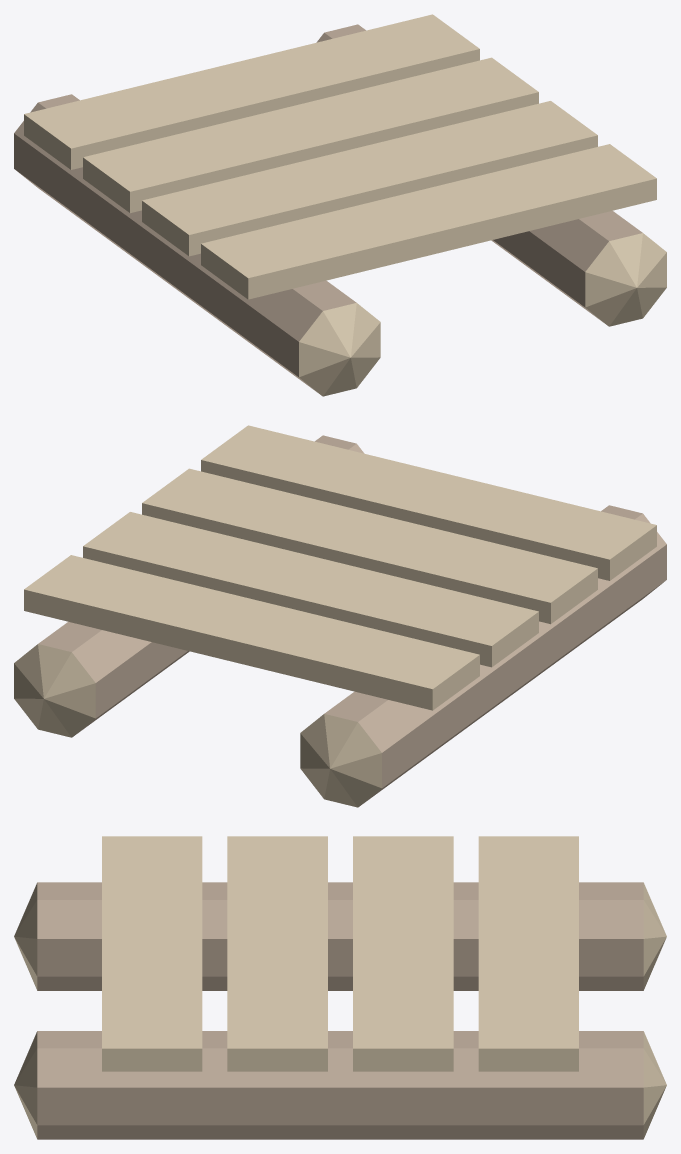
File: Beach_Prop_Docks_Straight.glb
The picture shows the model from 3 angles, top to bottom: view 1: azimuth 30°, elevation 25°; view 2: azimuth 150°, elevation 25°; view 3: azimuth 270°, elevation 25°; orthographic projection. The views are drawn at different scales.
Parts seen in each view (by area): view 1: Beach_Prop_Docks_Straight; view 2: Beach_Prop_Docks_Straight; view 3: Beach_Prop_Docks_Straight.
Boxes of the visible parts, x1,y1,x2,y2 form: Beach_Prop_Docks_Straight: [14, 14, 666, 396]; Beach_Prop_Docks_Straight: [14, 425, 666, 807]; Beach_Prop_Docks_Straight: [14, 836, 666, 1139].
Bounding box in the file's own units: 1 × 0.25 × 1.3.
